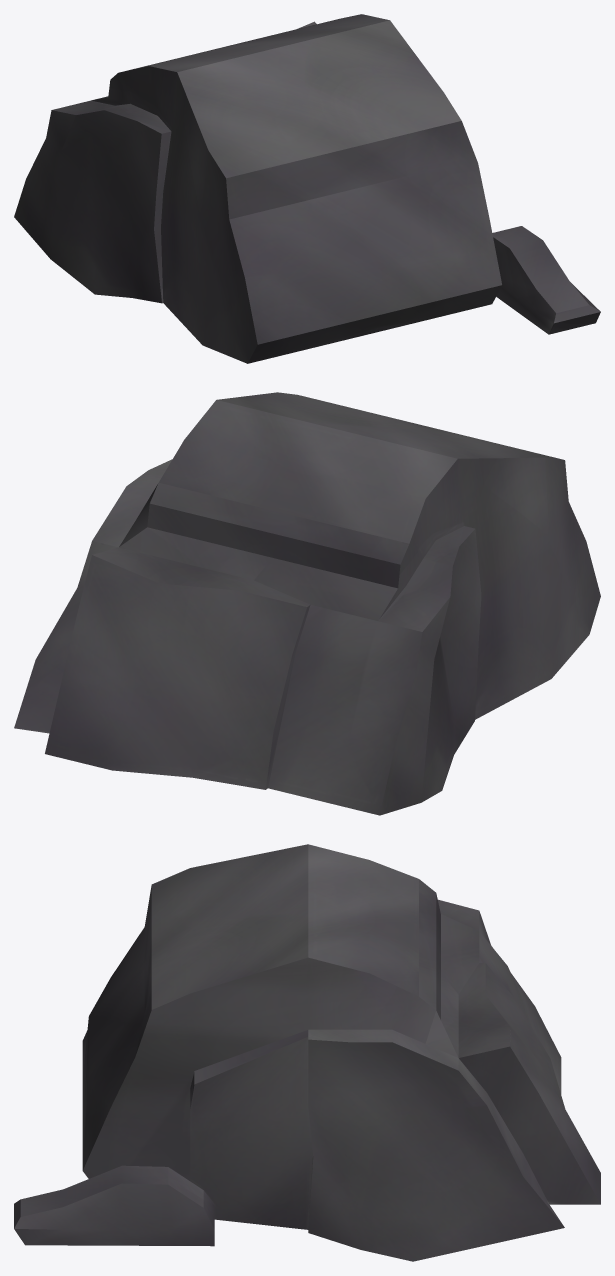
File: batu5.fbx
3 views of the same model, one above another, from view 1: azimuth 30°, elevation 25°; view 2: azimuth 150°, elevation 25°; view 3: azimuth 270°, elevation 25° (orthographic). The views are drawn at different scales.
Parts seen in each view (by area): view 1: batu3; view 2: batu3; view 3: batu3.
Part boxes in pixels (x1,y1,x2,y2): batu3: (14, 14, 600, 363); batu3: (14, 392, 600, 815); batu3: (14, 844, 600, 1261).
Bounding box in the file's own units: 304 × 215 × 422.
